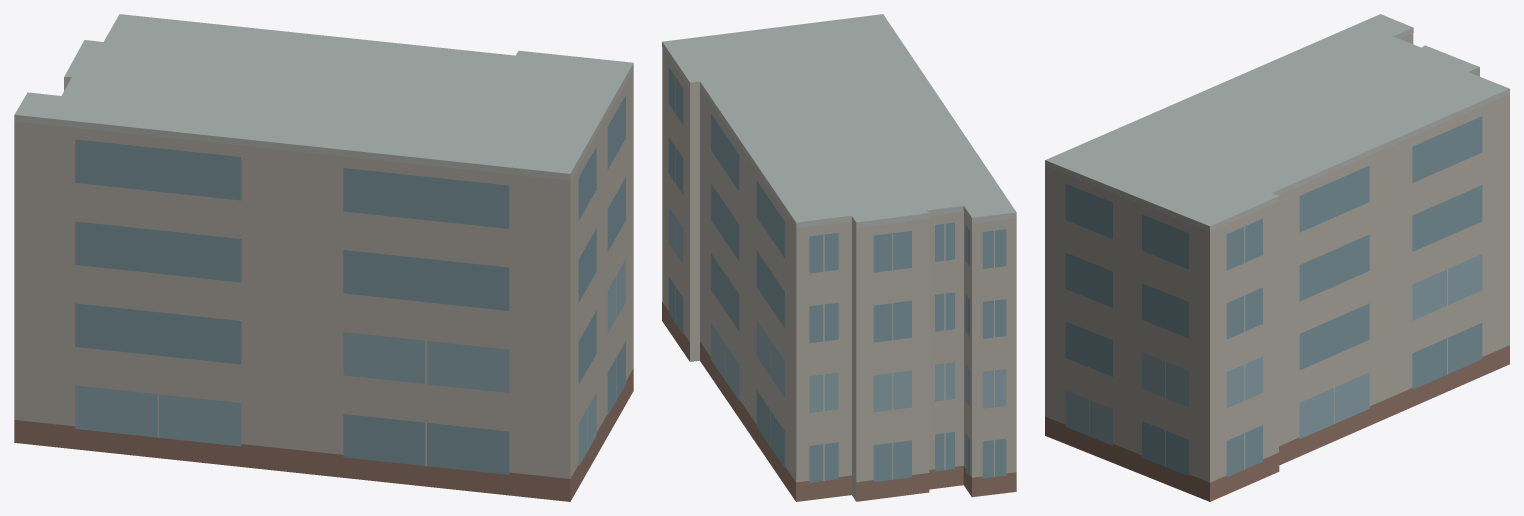
File: survey-upis-32770295.glb
3 views of the same model, side by side, from view 1: azimuth 30°, elevation 25°; view 2: azimuth 150°, elevation 25°; view 3: azimuth 270°, elevation 25° (orthographic). The views are drawn at different scales.
Parts seen in each view (by area): view 1: survey-upis-32770295.tmp; view 2: survey-upis-32770295.tmp; view 3: survey-upis-32770295.tmp.
Boxes of the visible parts, x1=… form: survey-upis-32770295.tmp: x1=14, y1=14, x2=633, y2=501; survey-upis-32770295.tmp: x1=662, y1=14, x2=1016, y2=501; survey-upis-32770295.tmp: x1=1045, y1=14, x2=1509, y2=501.
Size of the model in its own units: 20.16 by 12.2 by 18.65.
